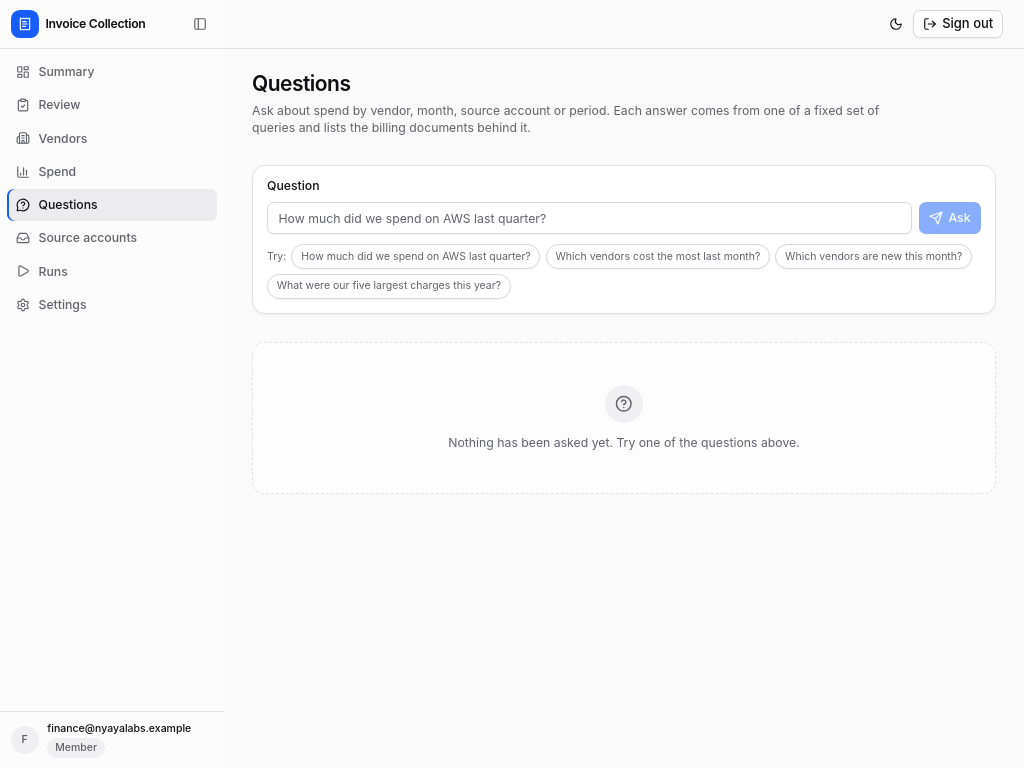
a question outside the fixed set says it cannot be answered yet, and why
Expected: the heading "Questions" is shown, [252,71,350,96]
Step 1. Type "What will we spend next year?" into the field labelled "Question" → (589, 218), box [267,202,912,234]
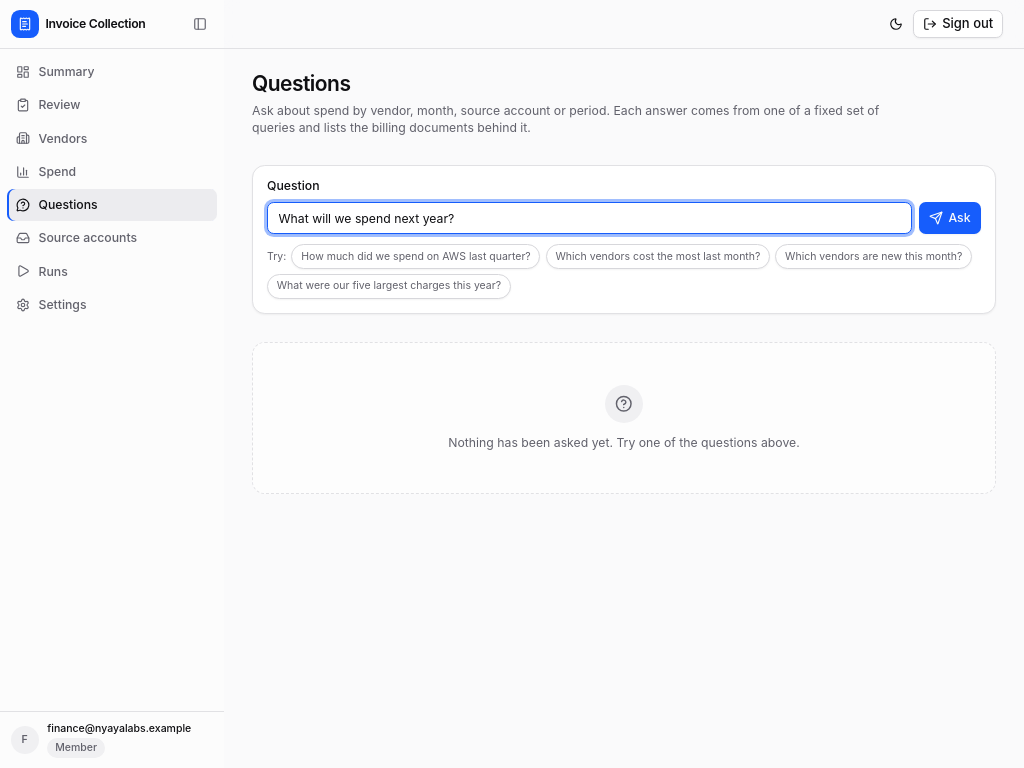
Step 2. Click the button "Ask" → (950, 218), box [919,202,981,234]
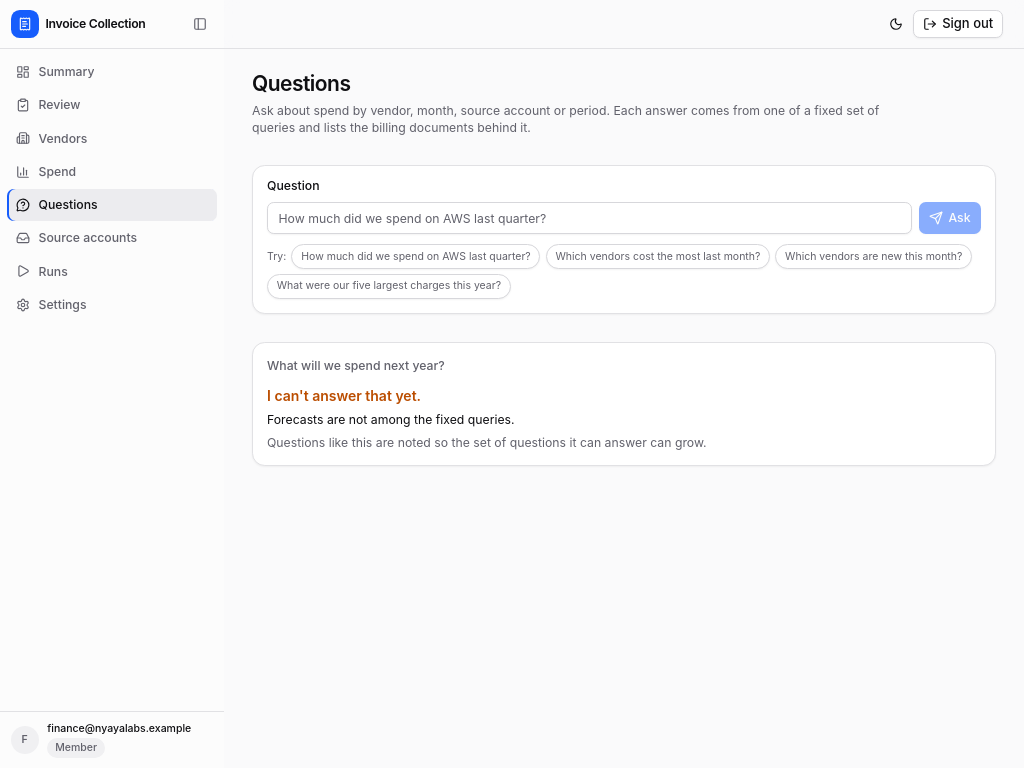
Expected: the text "I can't answer that yet." is shown, [267,386,421,404]
Expected: the text "Forecasts are not among the fixed queries." is shown, [267,412,514,427]
